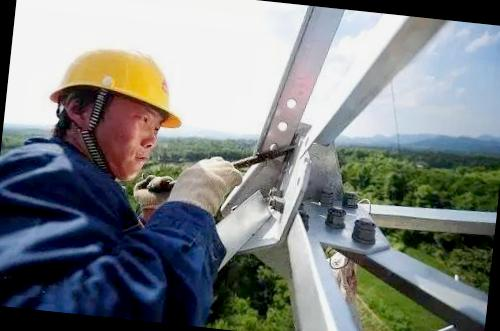helmet: (46, 42, 193, 134)
person: (0, 34, 235, 327)
